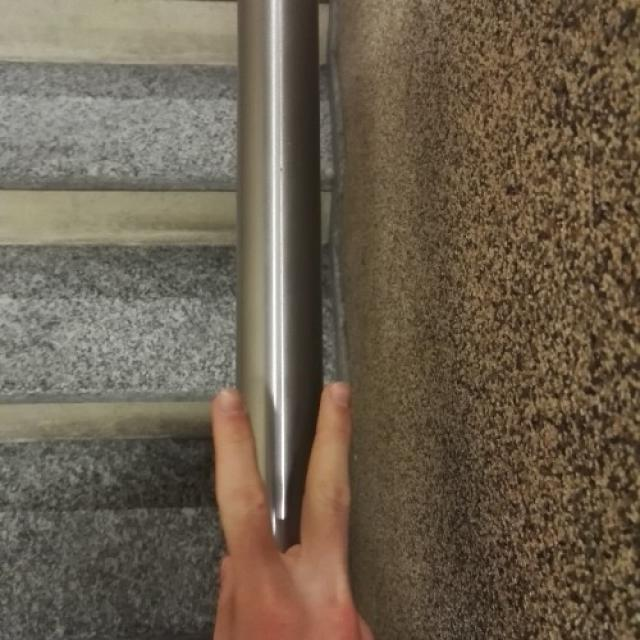scissors: (206, 381, 370, 640)
